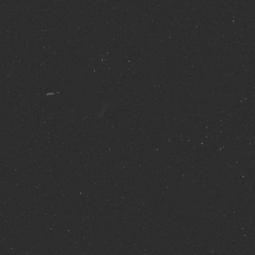earth_observation_sat_1: (38, 77, 116, 121)
